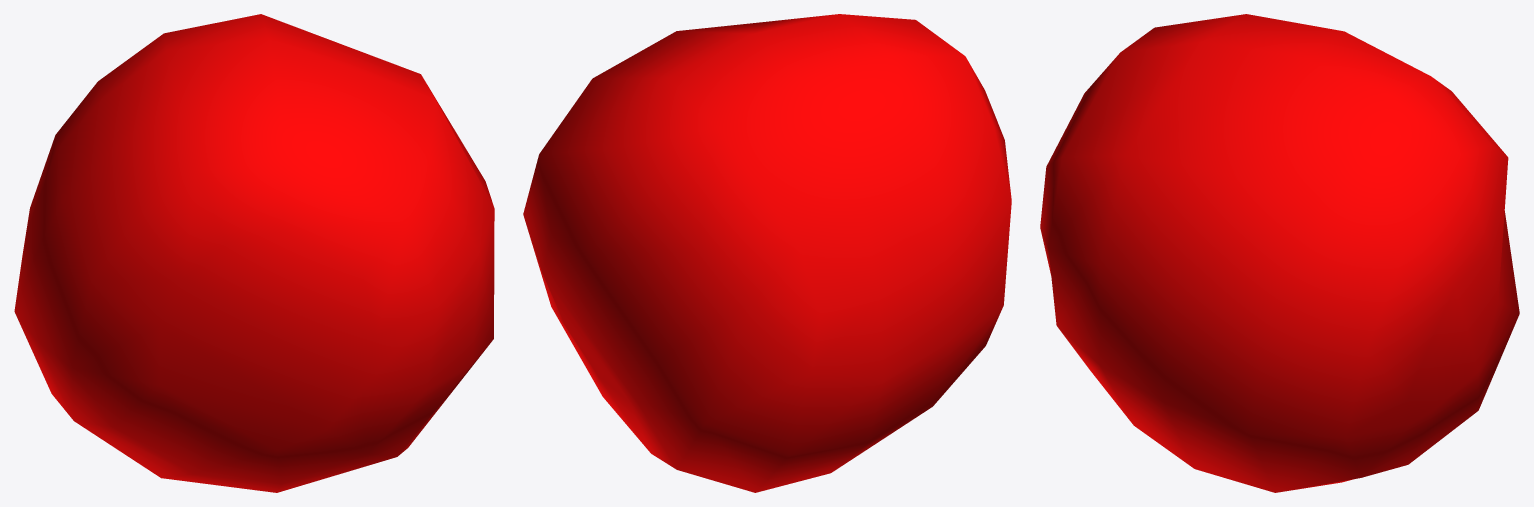
Rendered from apple2_coll.FBX.
3 views of the same model, side by side, from view 1: azimuth 30°, elevation 25°; view 2: azimuth 150°, elevation 25°; view 3: azimuth 270°, elevation 25° (orthographic). The views are drawn at different scales.
Visible parts, largest first — view 1: apple2_coll; view 2: apple2_coll; view 3: apple2_coll.
Boxes of the visible parts, <box> form: apple2_coll: <box>14,14,494,492</box>; apple2_coll: <box>523,14,1011,492</box>; apple2_coll: <box>1040,14,1519,492</box>.
Size of the model in its own units: 58.78 by 57.02 by 59.31.
